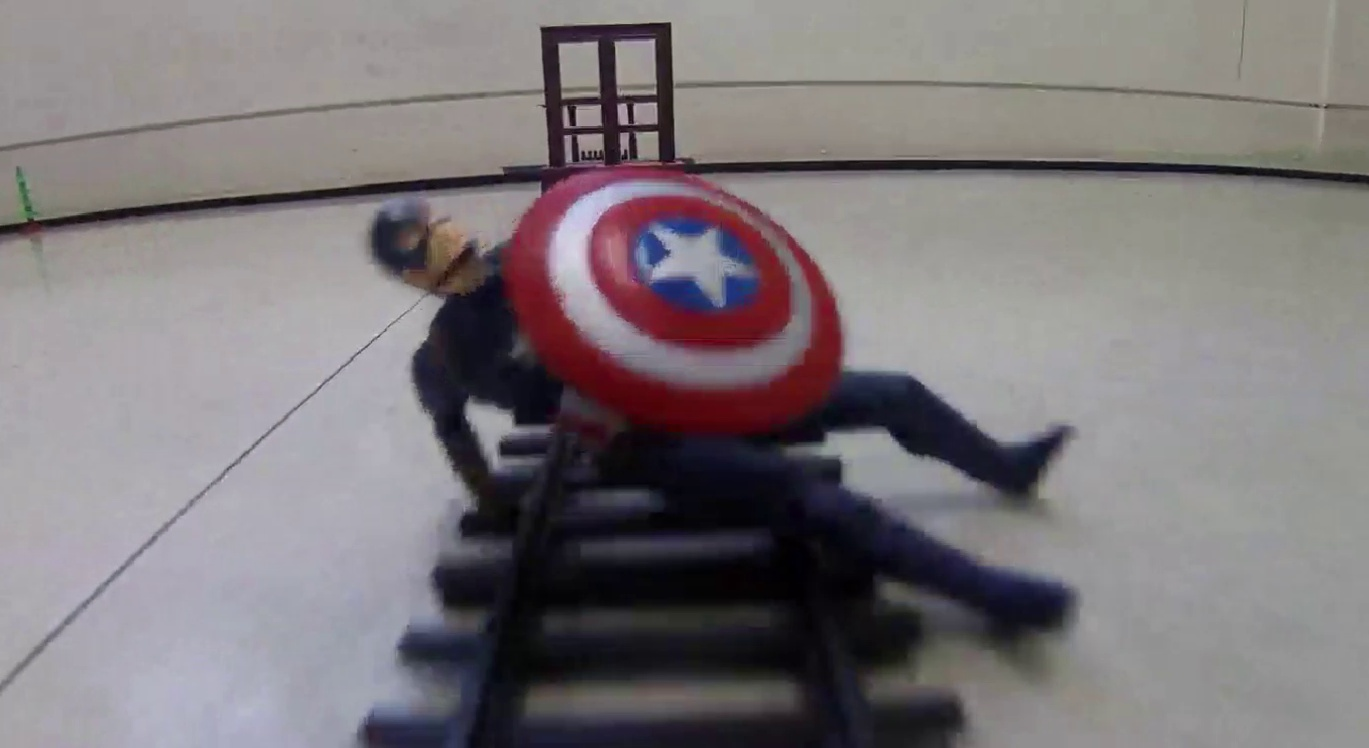people: (372, 163, 1086, 649)
